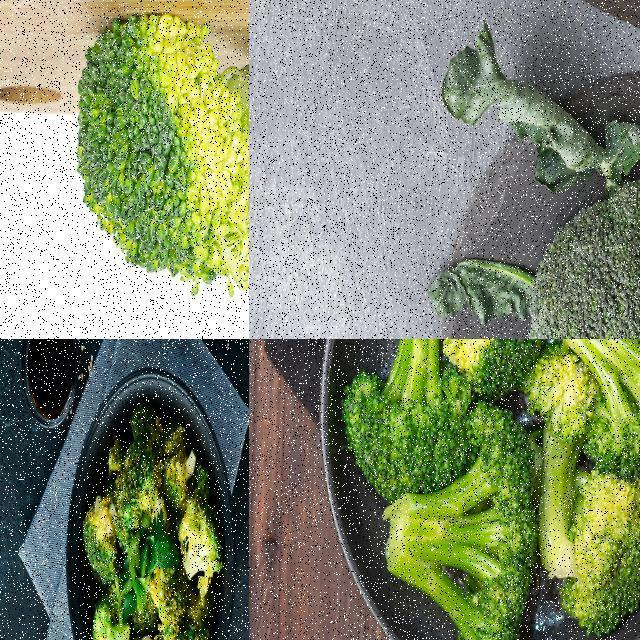broccoli: (73, 0, 248, 300), (376, 405, 543, 639), (346, 339, 480, 501), (528, 184, 639, 338), (552, 453, 639, 637), (552, 339, 639, 474), (409, 339, 549, 406), (110, 432, 158, 554), (177, 486, 227, 588), (81, 490, 125, 587), (164, 423, 202, 509), (94, 602, 134, 639), (167, 614, 216, 639)
